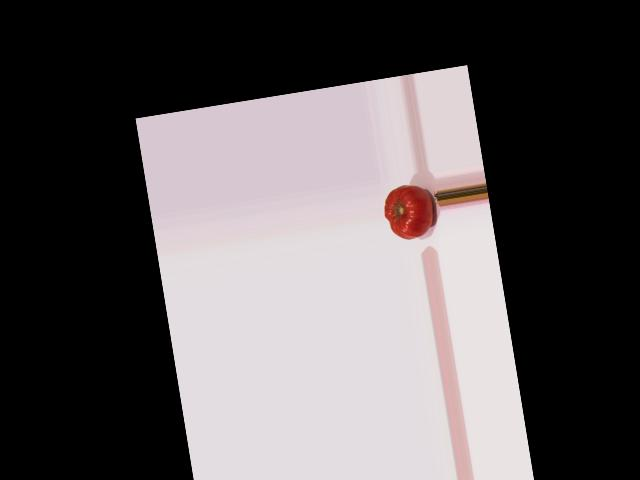tomato: (381, 182, 436, 242)
